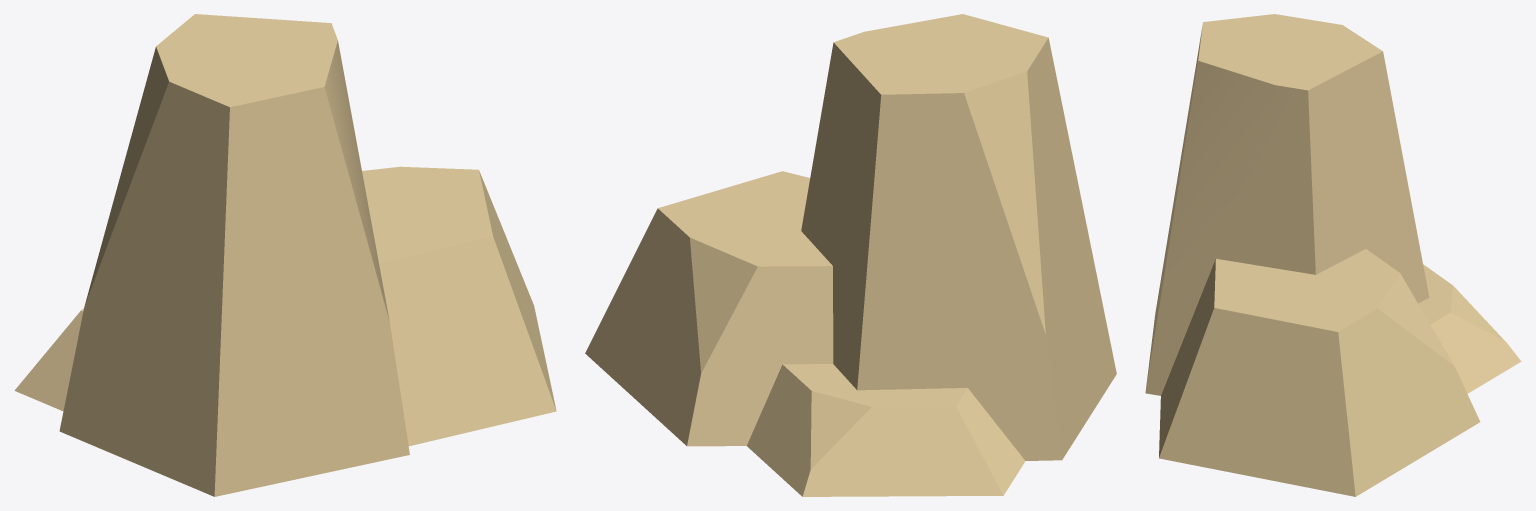
File: rockA.dae
The picture shows the model from 3 angles, left to right: view 1: azimuth 30°, elevation 25°; view 2: azimuth 150°, elevation 25°; view 3: azimuth 270°, elevation 25°; orthographic projection. The views are drawn at different scales.
Parts seen in each view (by area): view 1: rockA; view 2: rockA; view 3: rockA.
Boxes of the visible parts, x1,y1,x2,y2 form: rockA: (14, 14, 556, 496); rockA: (585, 14, 1116, 496); rockA: (1145, 14, 1521, 496).
Bounding box in the file's own units: 0.5552 × 0.3927 × 0.4324.
